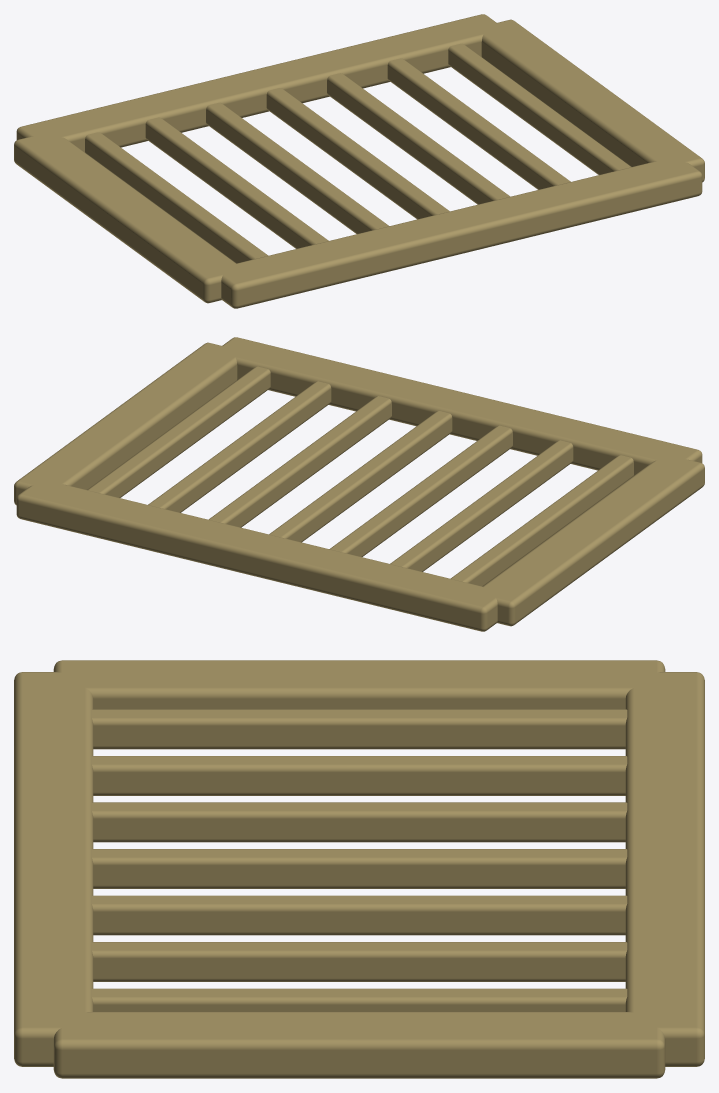
Rendered from water-clock-garden-and-hydraulic-puzzles-pierced-intak-e2f7f85d__31959.glb.
The picture shows the model from 3 angles, top to bottom: view 1: azimuth 30°, elevation 25°; view 2: azimuth 150°, elevation 25°; view 3: azimuth 270°, elevation 25°; orthographic projection. The views are drawn at different scales.
Visible parts, largest first — view 1: pierced-intake-grille; view 2: pierced-intake-grille; view 3: pierced-intake-grille.
Part boxes in pixels (x1,y1,x2,y2): pierced-intake-grille: (14, 14, 704, 308); pierced-intake-grille: (14, 337, 704, 631); pierced-intake-grille: (14, 660, 704, 1078).
Bounding box in the file's own units: 0.745 × 0.035 × 0.565.
